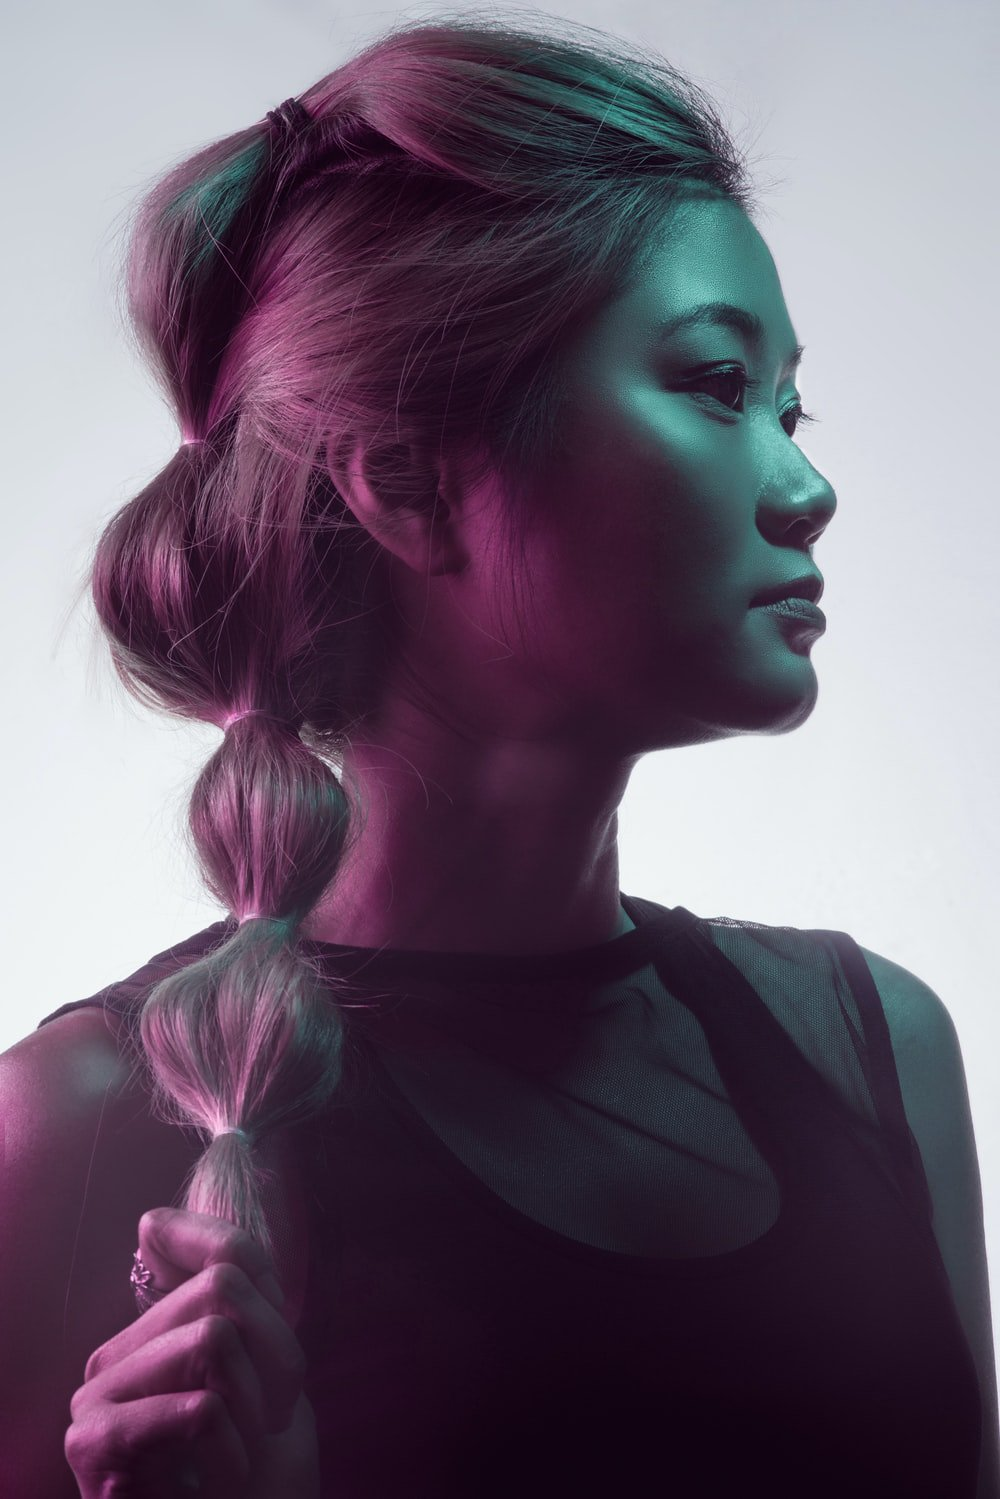noMask: (144, 53, 860, 832)
